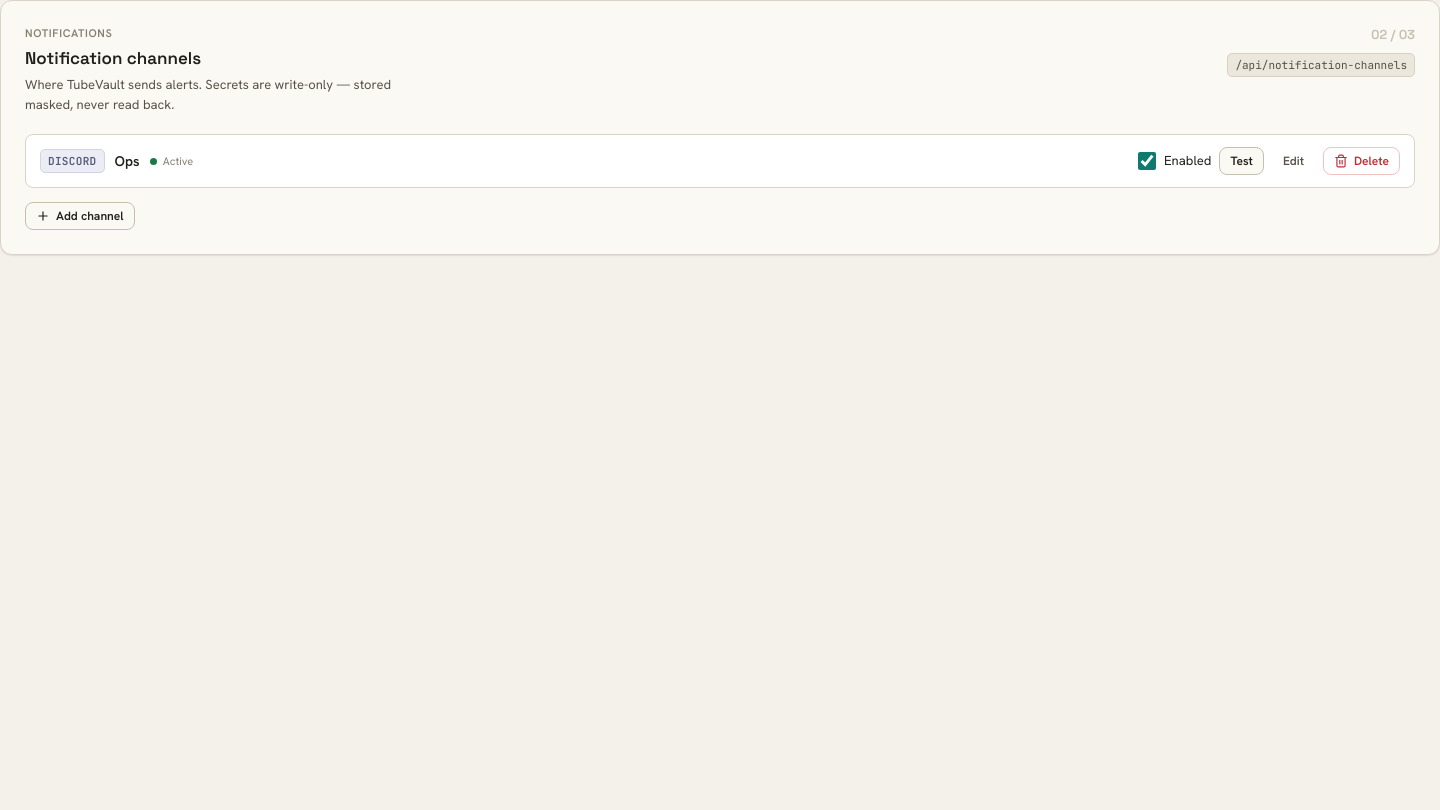
Scenario: NotificationChannelsSection — re-audit cosmetic backlog › §S9-7: the events summary reads a localized "N of M events" count
The width and height of the screenshot is (1440, 810).
Click the button "Edit" at x=1293, y=161, box [1272,147,1315,175]
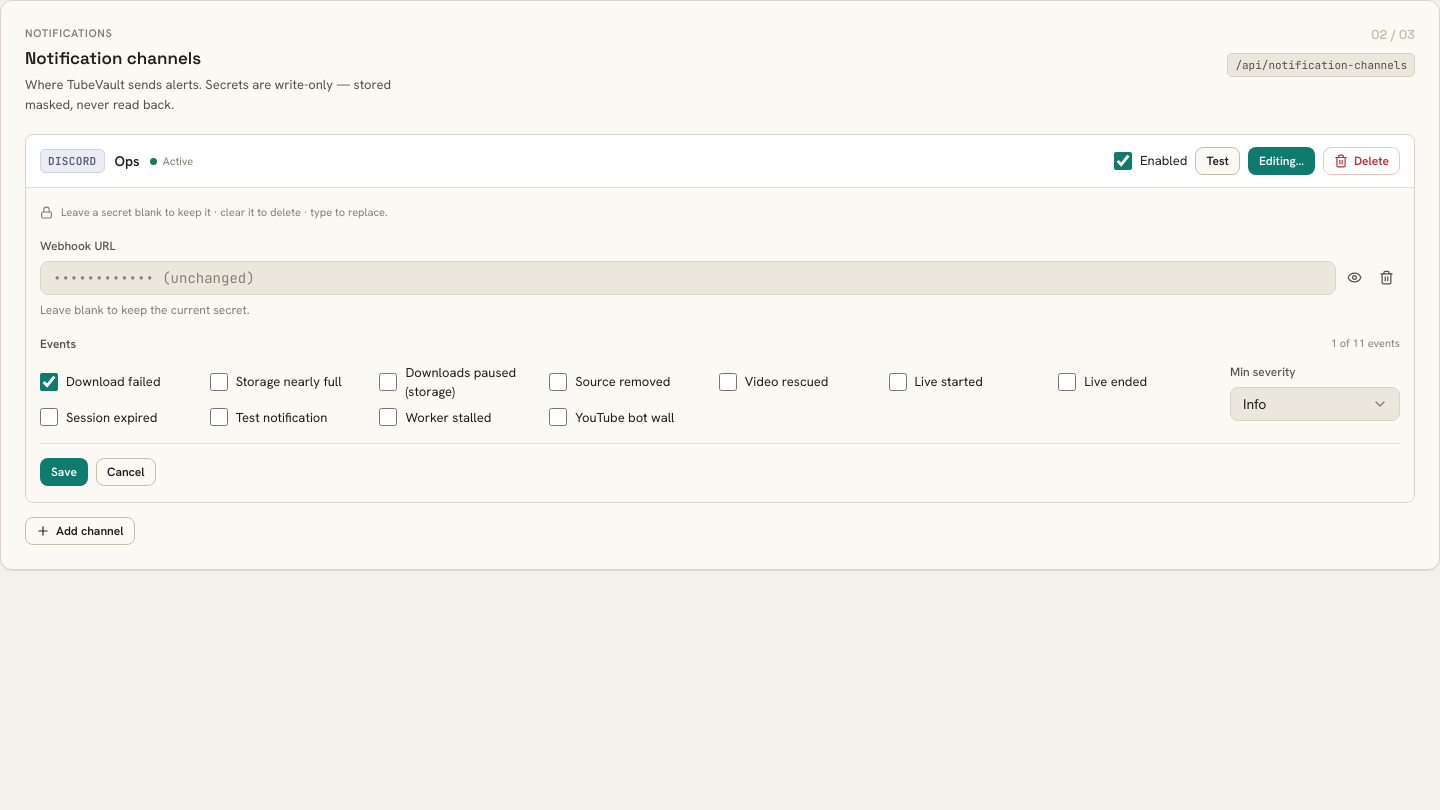
expect the text "1 of 11 events" is shown: met, box [1331,335,1400,352]
